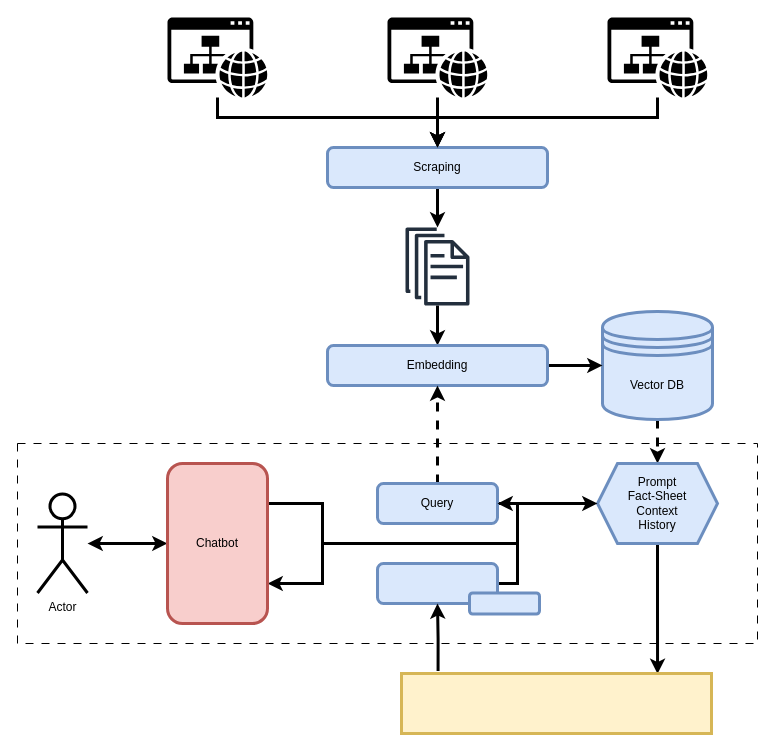
The diagram is 775 pixels wide and 752 high, and some of its shapes have lost their labels. The shapes that lost their labels are listed below. From the top down, each one's centre as x and y in pixels, then its label:
(437,583): Response
(504,603): Sources
(556,703): LLM
